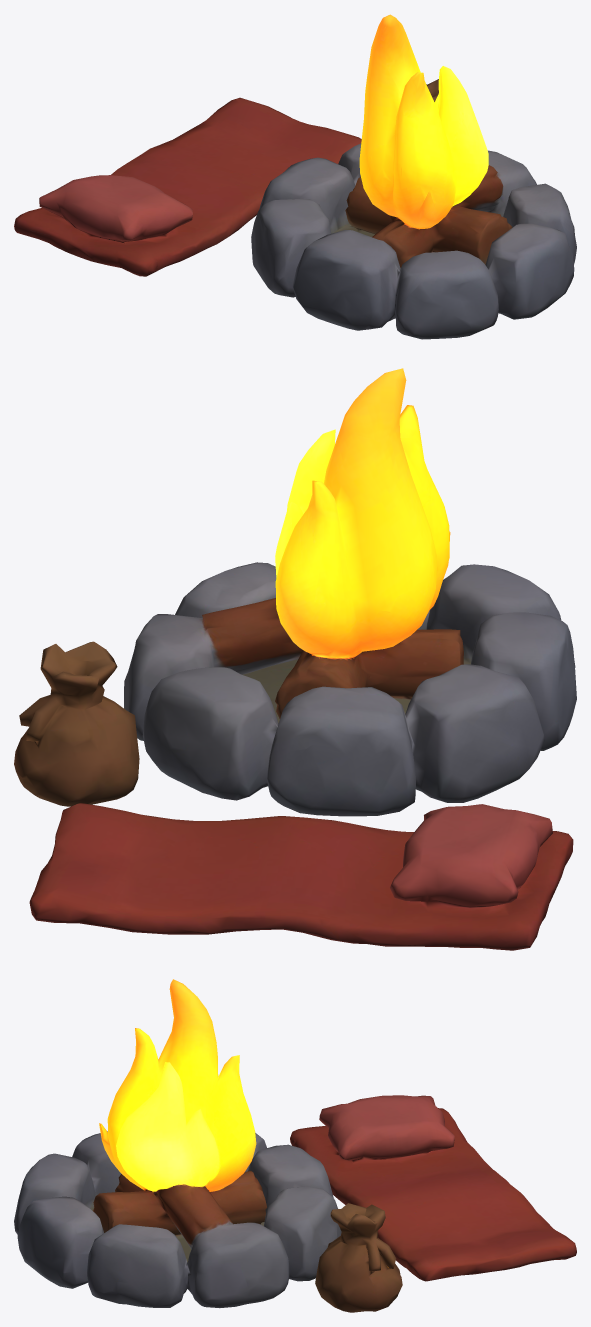
Rendered from pro_campfire-CLzmkIaA.glb.
3 renders of one model, top to bottom at view 1: azimuth 30°, elevation 25°; view 2: azimuth 150°, elevation 25°; view 3: azimuth 270°, elevation 25°, orthographic. The views are drawn at different scales.
Visible parts, largest first — view 1: tripo_node_9f6256a9-8095-4403-a895-2bcaf46bd27d; view 2: tripo_node_9f6256a9-8095-4403-a895-2bcaf46bd27d; view 3: tripo_node_9f6256a9-8095-4403-a895-2bcaf46bd27d.
Boxes of the visible parts, bbox=[...] form: tripo_node_9f6256a9-8095-4403-a895-2bcaf46bd27d: bbox=[14, 14, 576, 339]; tripo_node_9f6256a9-8095-4403-a895-2bcaf46bd27d: bbox=[14, 368, 576, 950]; tripo_node_9f6256a9-8095-4403-a895-2bcaf46bd27d: bbox=[14, 979, 576, 1312].
Bounding box in the file's own units: 0.8054 × 0.505 × 1.
Materials: 1 (1 with a texture image).
